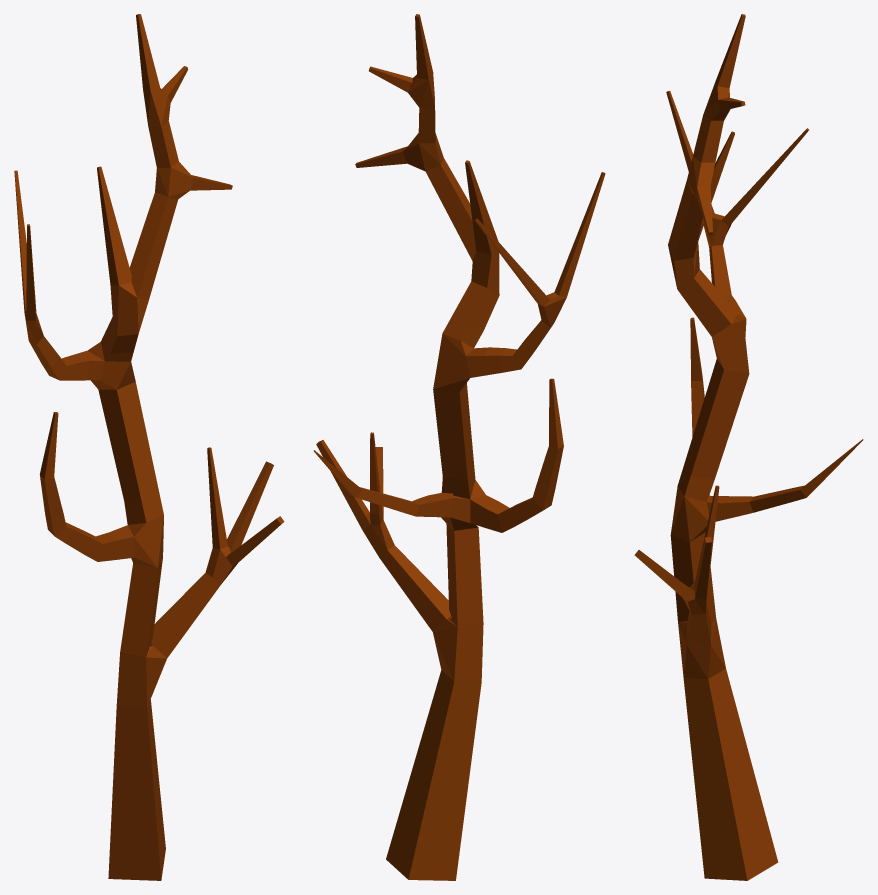
File: sticks002.fbx
3 renders of one model, left to right at view 1: azimuth 30°, elevation 25°; view 2: azimuth 150°, elevation 25°; view 3: azimuth 270°, elevation 25°, orthographic.
Parts seen in each view (by area): view 1: Vert; view 2: Vert; view 3: Vert.
Boxes of the visible parts, x1,y1,x2,y2 form: Vert: (14,14,284,880); Vert: (313,14,605,880); Vert: (634,14,863,880).
Size of the model in its own units: 65.47 by 201 by 48.35.
